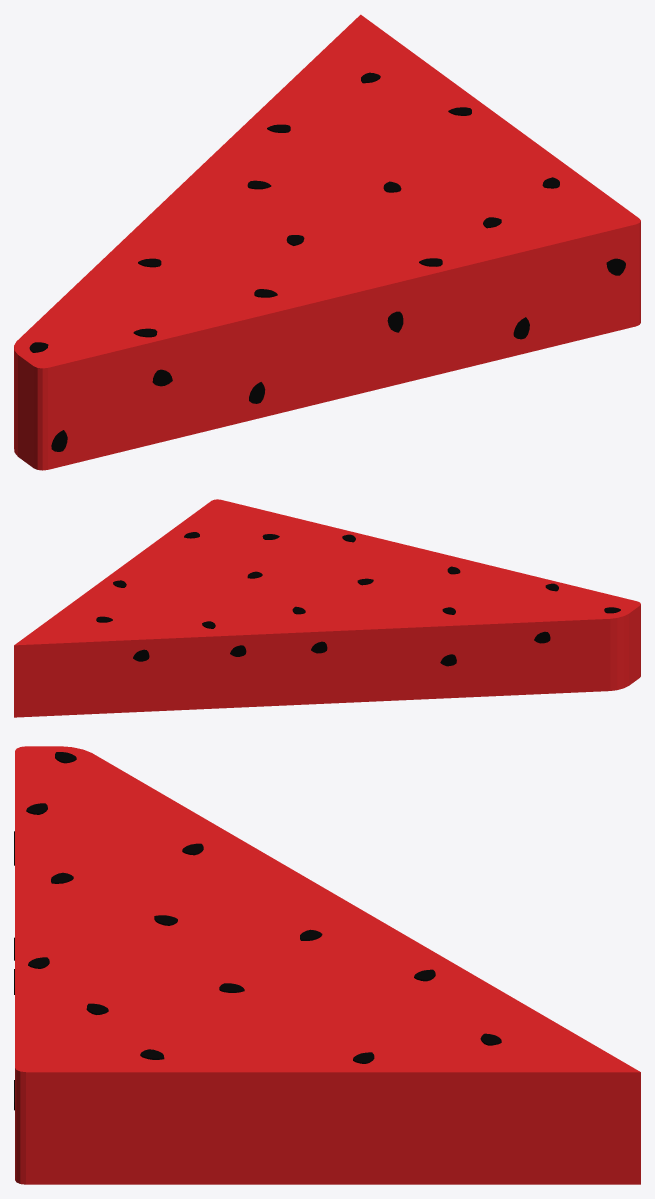
File: Obstacle Triangle.fbx
3 renders of one model, top to bottom at view 1: azimuth 30°, elevation 25°; view 2: azimuth 150°, elevation 25°; view 3: azimuth 270°, elevation 25°, orthographic. The views are drawn at different scales.
Visible parts, largest first — view 1: Obstacle Triangle; view 2: Obstacle Triangle; view 3: Obstacle Triangle.
Part boxes in pixels (box(x1,y1,x2,y2)): Obstacle Triangle: box(14, 14, 640, 470); Obstacle Triangle: box(14, 499, 640, 717); Obstacle Triangle: box(14, 746, 640, 1184).
Size of the model in its own units: 2354 by 384 by 1914.
